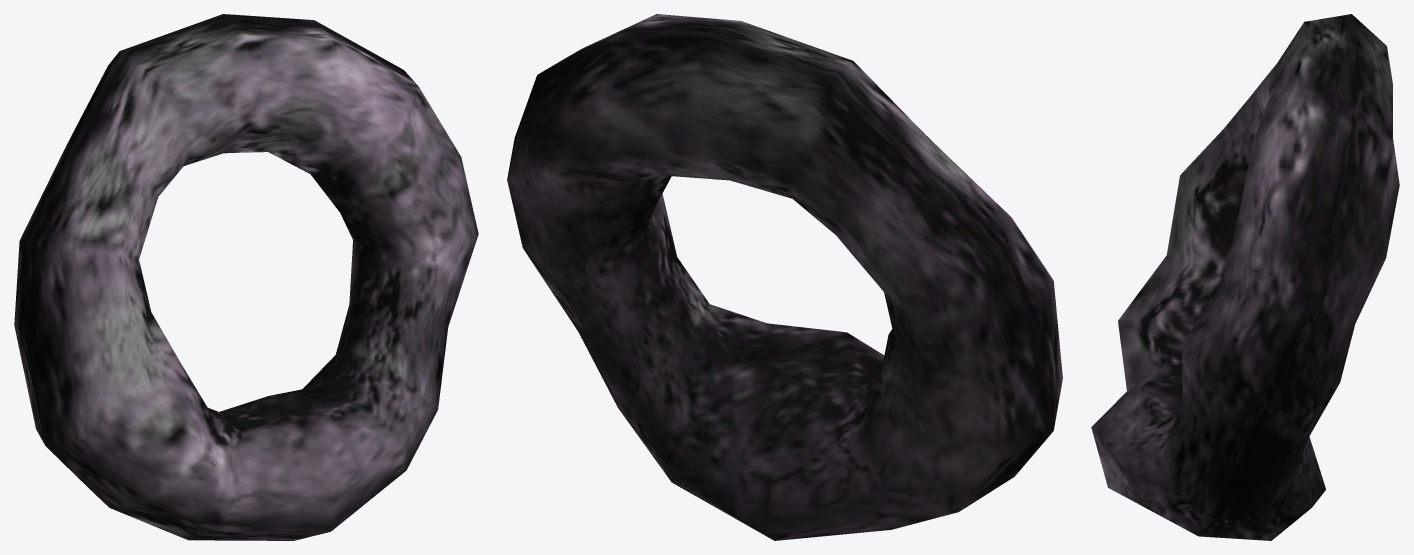
Rendered from bgrnd57.obj.
The picture shows the model from 3 angles, left to right: view 1: azimuth 30°, elevation 25°; view 2: azimuth 150°, elevation 25°; view 3: azimuth 270°, elevation 25°; orthographic projection. The views are drawn at different scales.
Visible parts, largest first — view 1: frm-poly; view 2: frm-poly; view 3: frm-poly.
Boxes of the visible parts, left/top/right/bottom form: frm-poly: left=14, top=14, right=478, bottom=540; frm-poly: left=507, top=14, right=1062, bottom=540; frm-poly: left=1091, top=14, right=1399, bottom=540.
Size of the model in its own units: 415 by 419 by 246.
